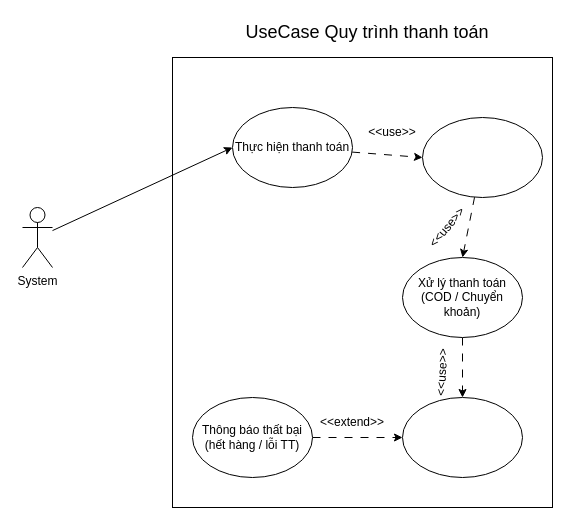
Some shapes in this 570 by 525 pixel diagram are drawn without their labels. The shapes that lost their labels are listed below. From the top down, each one's box as (x1, y1, x2, y2) in pixels, then its label:
(422, 116, 542, 198): Xác thực sản phẩm (kiểm tra tồn kho)
(402, 396, 522, 478): Gửi email xác nhận
